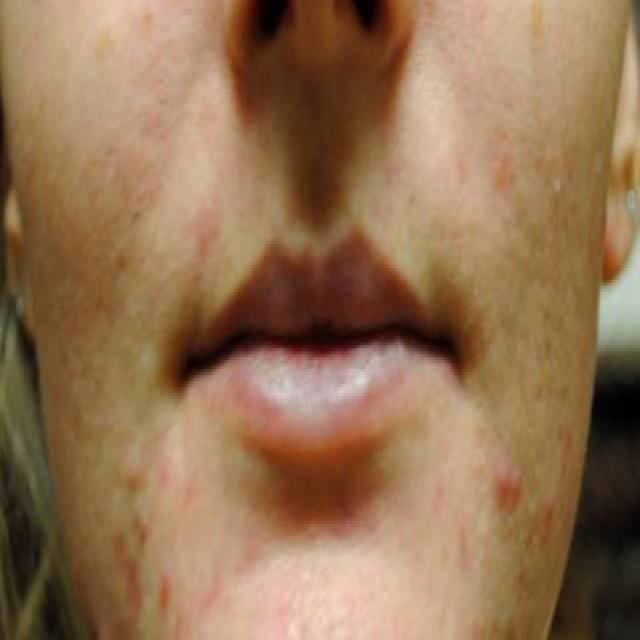blackheads: (494, 444, 524, 509), (550, 173, 562, 208), (115, 241, 126, 274)
